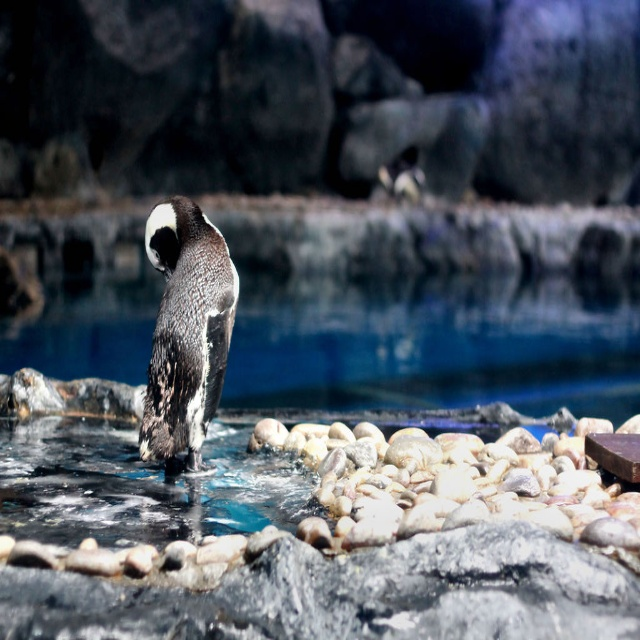Penguin: (135, 190, 239, 476)
